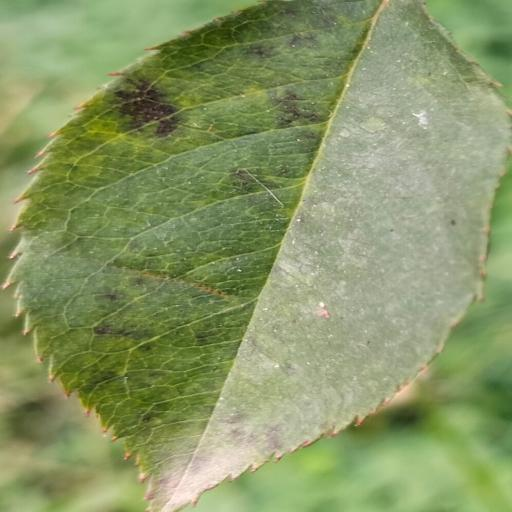black_spot: (4, 0, 511, 512)
